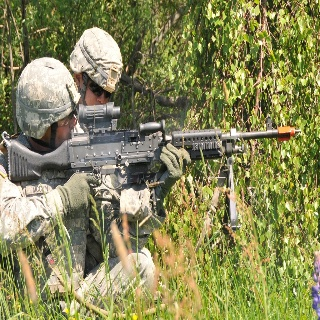rifle: (5, 101, 301, 231)
